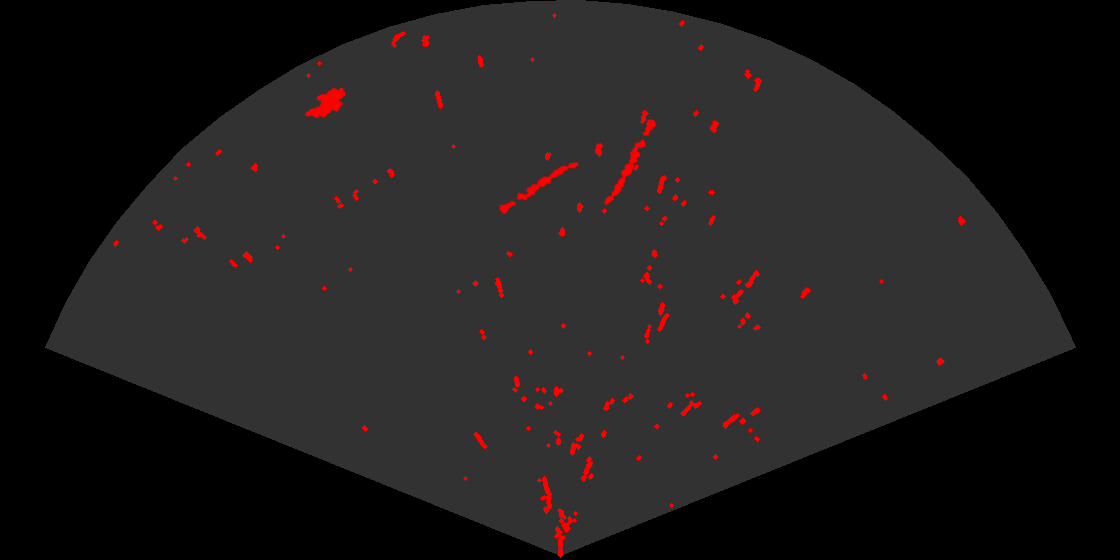AUV: (304, 86, 347, 120)
chain: (603, 117, 658, 207), (498, 160, 580, 216)
